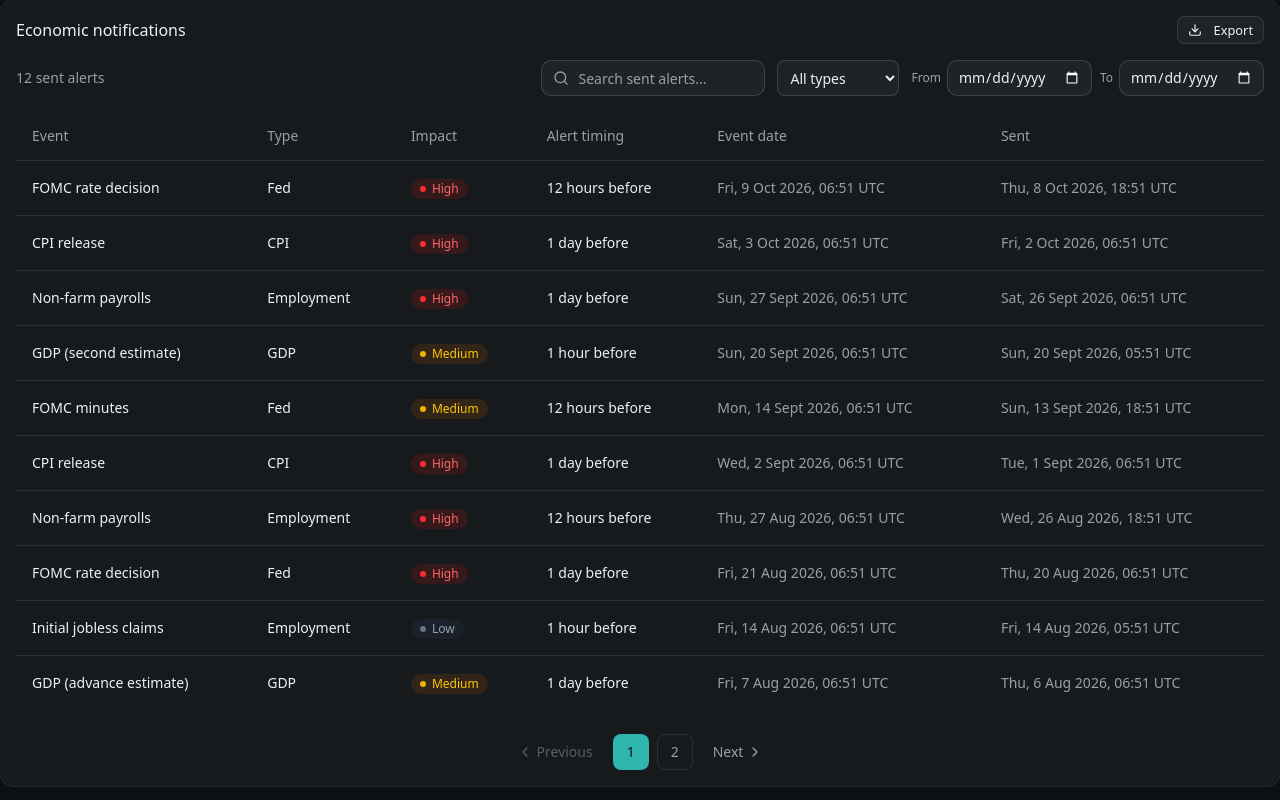
MacroAlertHistory › filters by the date the alert was sent
Clear the field with placeholder "Search sent alerts..." at [654, 78], box x1=542 y1=60 x2=766 y2=96
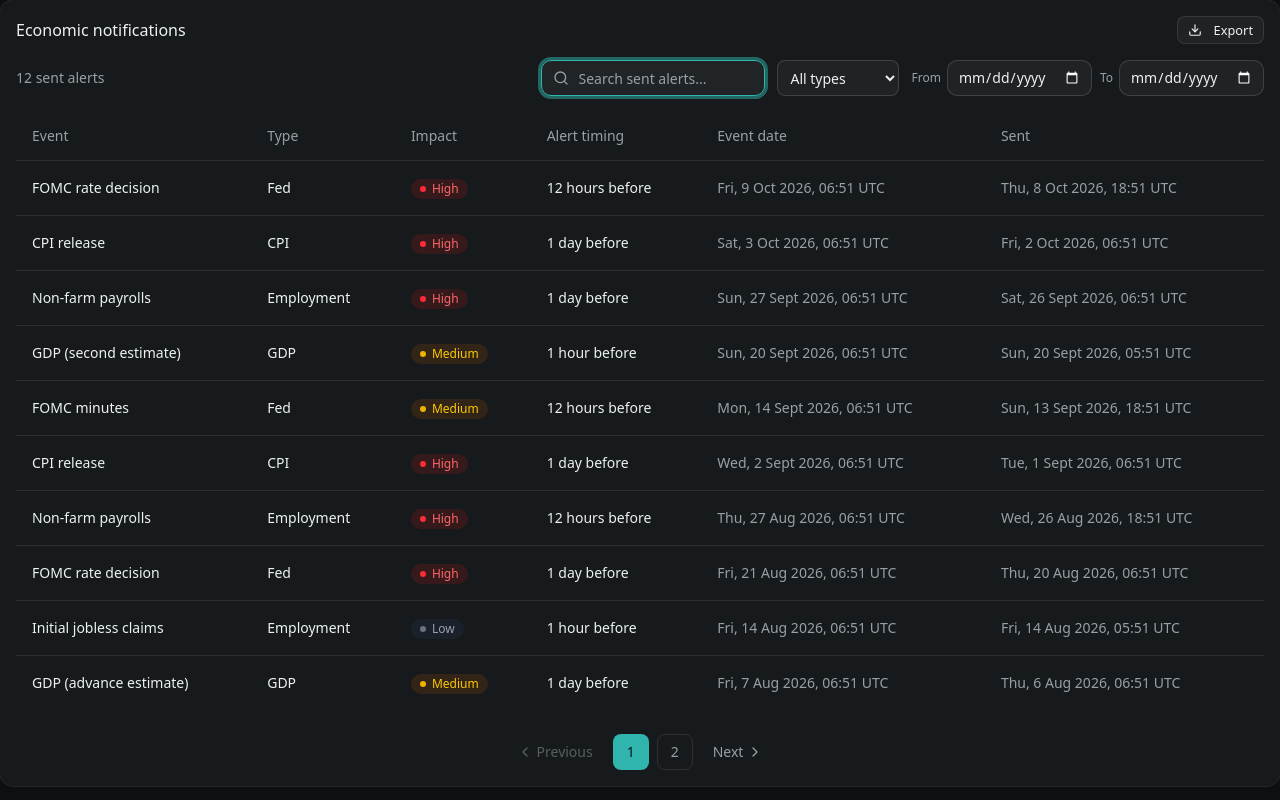
Type "2020-01-01" into the date field labelled "From" at [1019, 78], box x1=947 y1=60 x2=1092 y2=96
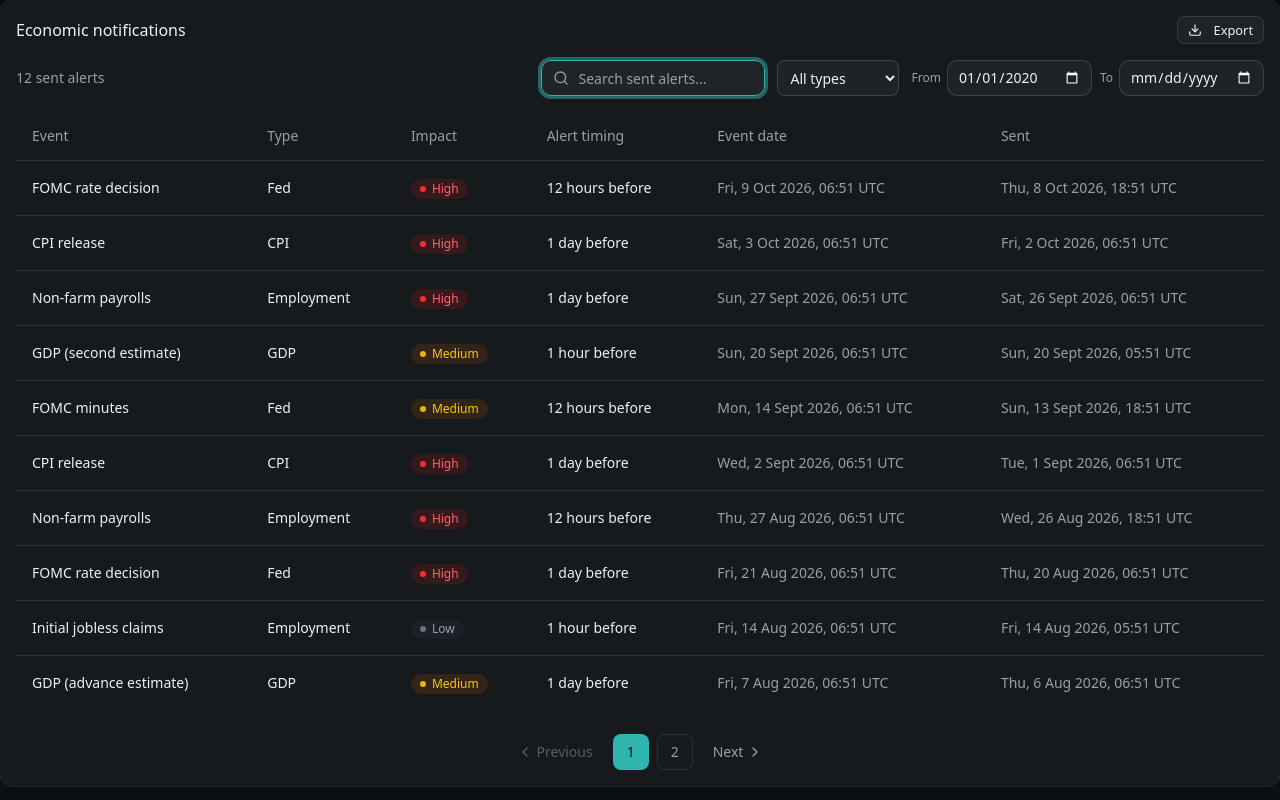
Type "2020-01-31" into the date field labelled "To" at [1192, 78], box x1=1119 y1=60 x2=1264 y2=96
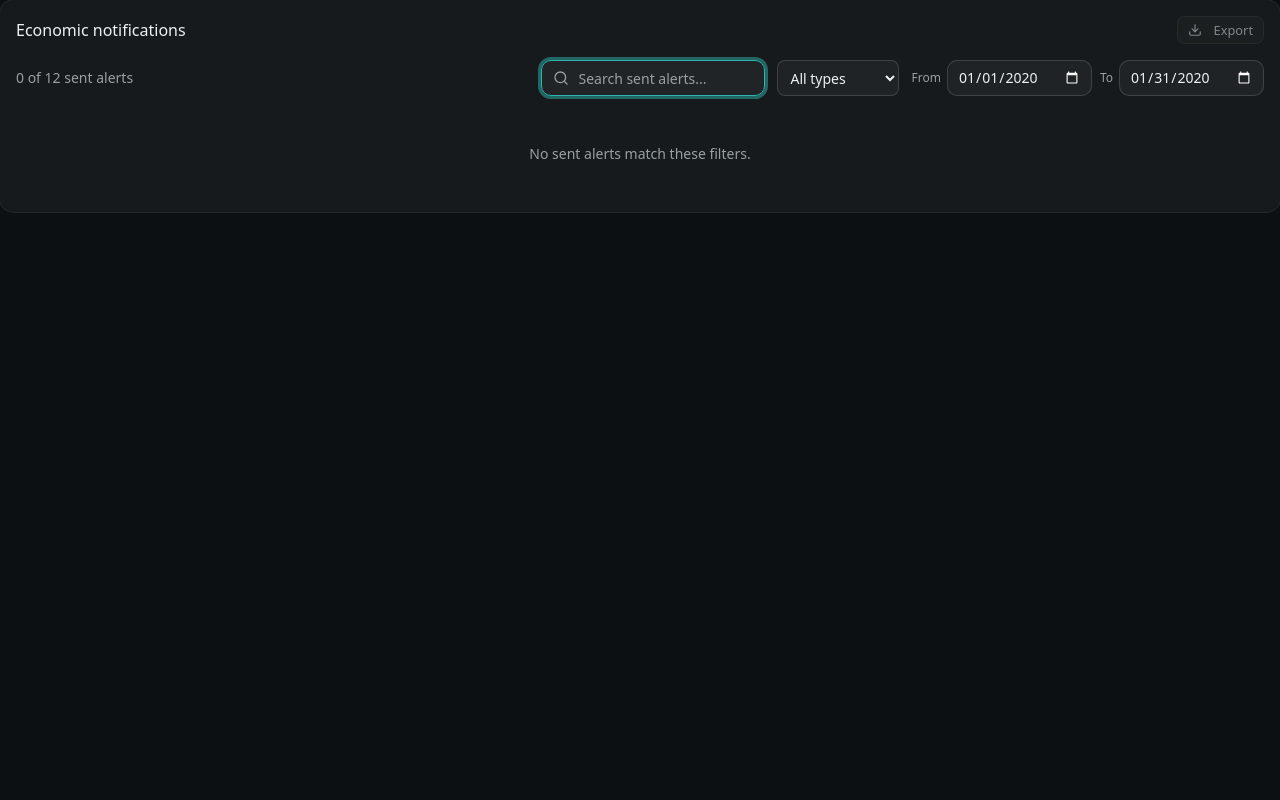
Result: the text "No sent alerts match these filters." is shown at x1=529 y1=144 x2=751 y2=163
